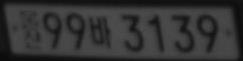1: (146, 12, 168, 52)
3: (170, 12, 196, 53), (120, 12, 145, 52)
9: (196, 12, 219, 54), (64, 11, 86, 50), (43, 10, 64, 49)
바: (87, 15, 113, 49)
울산_V: (18, 8, 43, 50)
